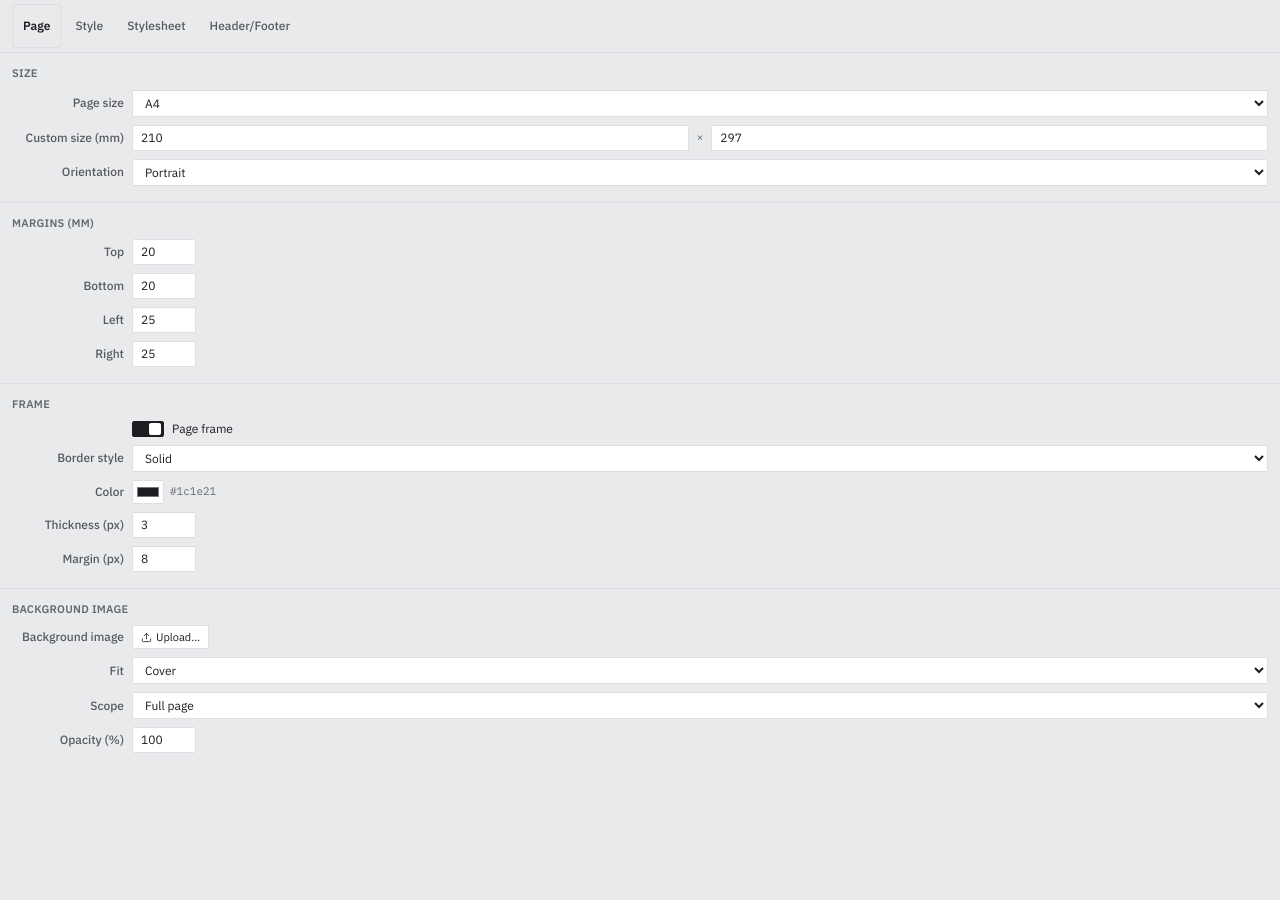
Scenario: the AI block of the Stylesheet tab — its own states › states the count, the period, and the reset date when the allowance is spent
Click the tab with aria-label "Custom stylesheet".
click(156, 26)  # box [117,4,196,48]
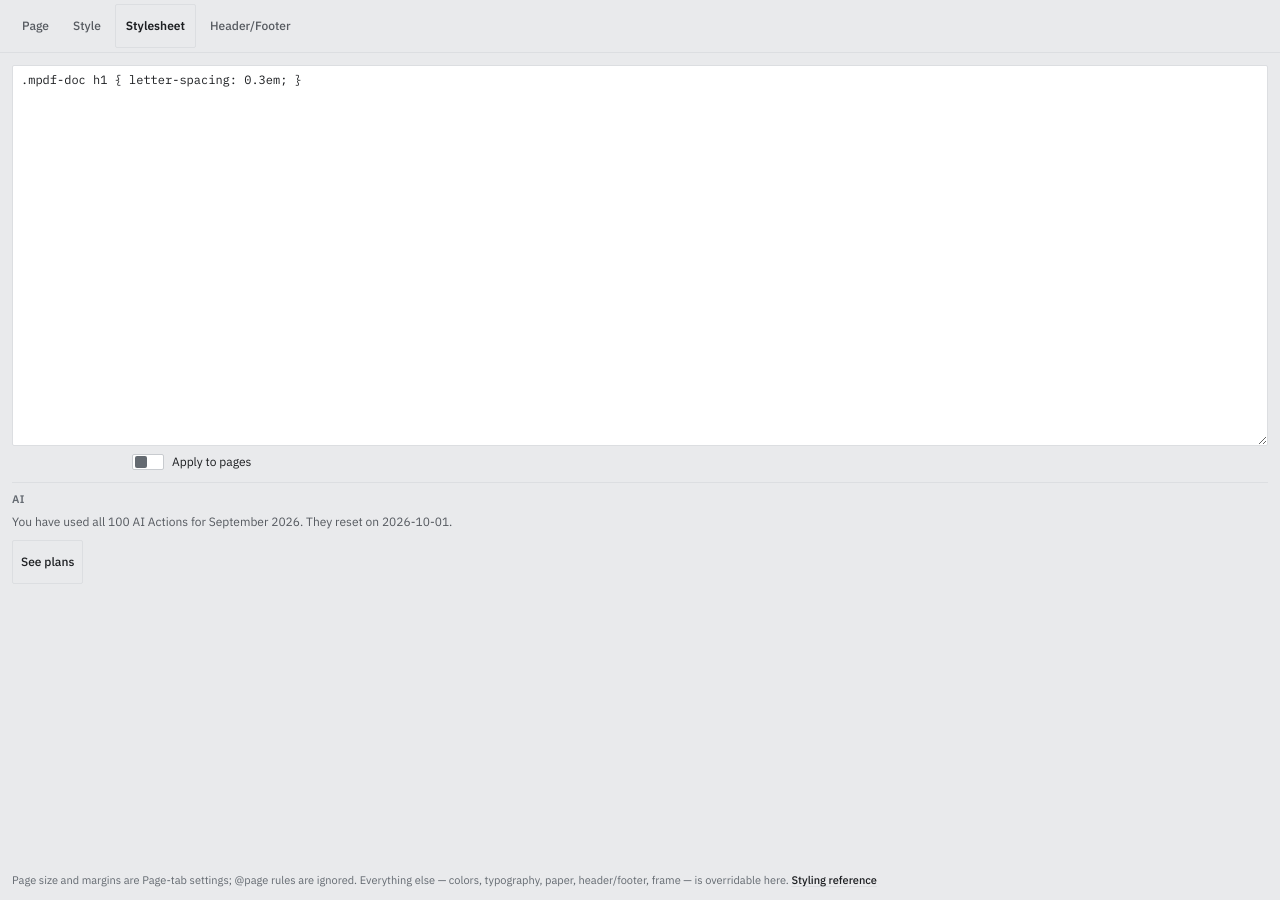
Check: the element with test id "stylesheet-ai-exhausted" shows "You have used all 100 AI Actions for September 2026. They reset on 2026-10-01.", box [12,514,452,584]
Check: the text box with test id "stylesheet-box" is shown, box [12,65,1268,446]
